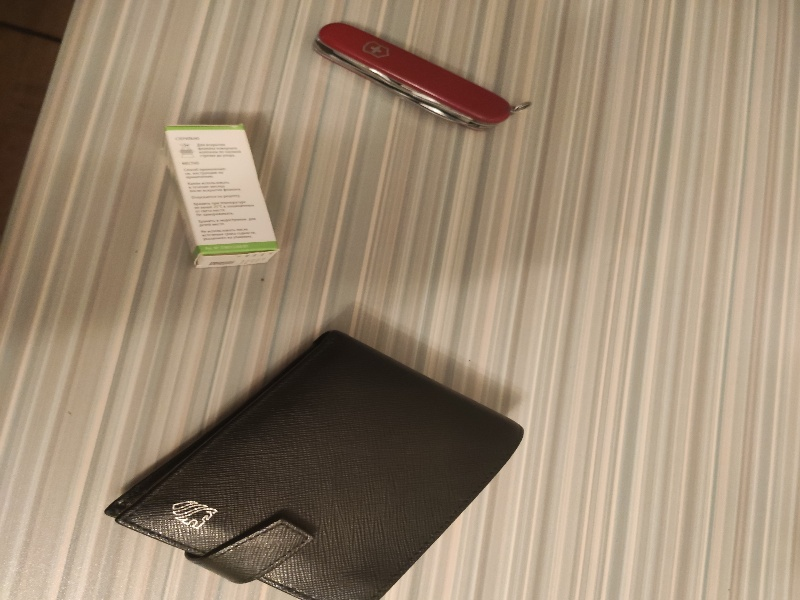ifrin: (155, 115, 291, 288)
knife: (305, 15, 528, 138)
wallet: (105, 325, 532, 600)
